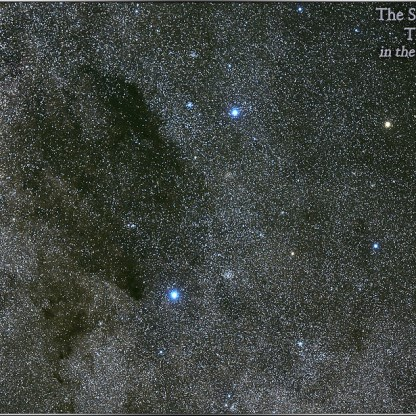Southern Cross: (159, 279, 191, 310), (224, 98, 257, 128), (360, 235, 389, 258), (380, 115, 399, 139)
